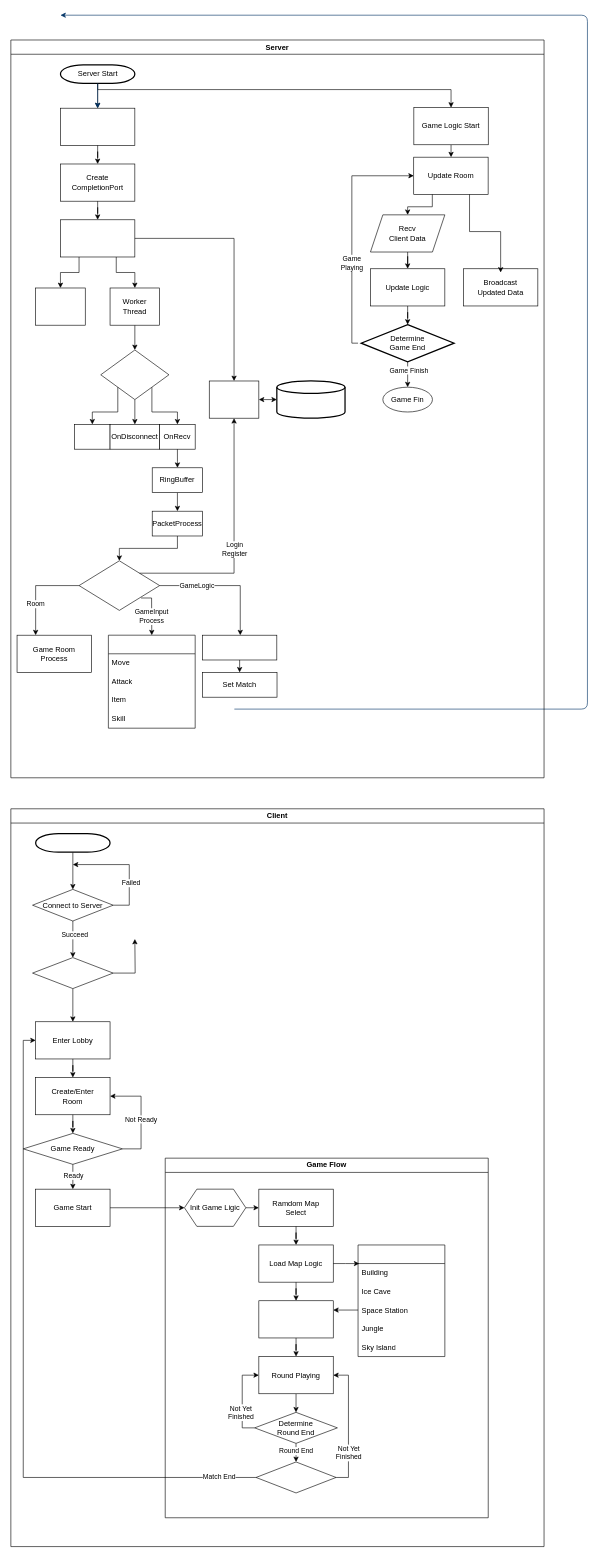
Some shapes in this 603 by 1557 pixel diagram are drawn without their labels. The box of each missing label's shape, as (x1, y1, x2, y2) in pixels:
Accept Thread: (35, 287, 85, 325)
Client Start: (35, 833, 110, 852)
DB Thread: (209, 380, 259, 418)
Determine Match End: (255, 1461, 336, 1493)
IO_Operation: (100, 349, 169, 400)
List: (108, 635, 195, 728)
Login: (32, 957, 113, 989)
Login Data: (276, 380, 345, 418)
Map List: (357, 1244, 445, 1357)
OnSend: (74, 424, 110, 449)
Packet Kind: (78, 560, 160, 610)
Round Timer Set: (258, 1300, 333, 1338)
Server Logic Start: (60, 108, 135, 145)
Set Game Logic: (202, 635, 277, 660)
Socket Binding: (60, 219, 135, 257)
